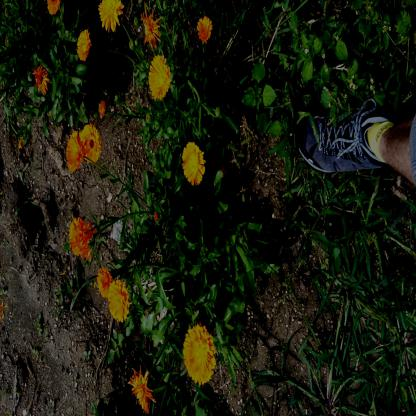marigold: (183, 326, 215, 384), (66, 214, 92, 260), (182, 141, 204, 186), (149, 56, 171, 99), (98, 0, 124, 32), (108, 282, 128, 323), (83, 125, 101, 162), (67, 132, 84, 171), (98, 268, 112, 298), (78, 32, 90, 61), (198, 18, 212, 41)
